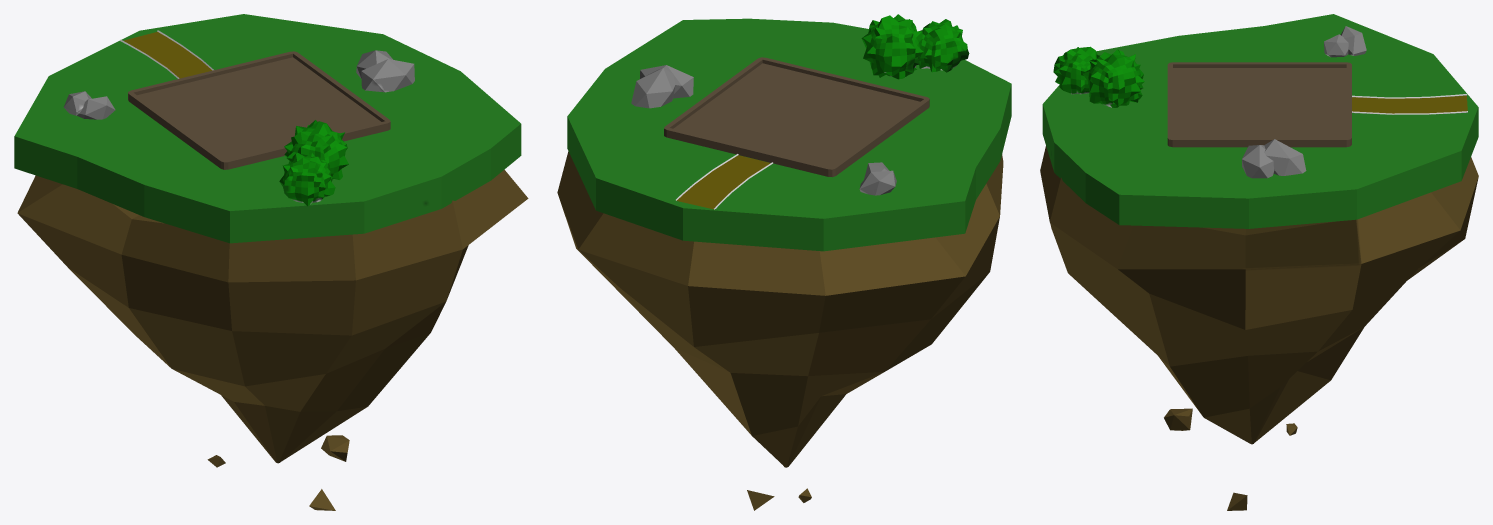
The model's file is wyspa.fbx.
3 views of the same model, side by side, from view 1: azimuth 30°, elevation 25°; view 2: azimuth 150°, elevation 25°; view 3: azimuth 270°, elevation 25° (orthographic). The views are drawn at different scales.
Parts seen in each view (by area): view 1: Kula ico.003; view 2: Kula ico.003; view 3: Kula ico.003.
Part boxes in pixels (box(x1,y1,x2,y2)): Kula ico.003: box(14, 14, 528, 510); Kula ico.003: box(557, 14, 1011, 510); Kula ico.003: box(1040, 14, 1478, 510).
Bounding box in the file's own units: 1.05 × 1.12 × 1.04.
